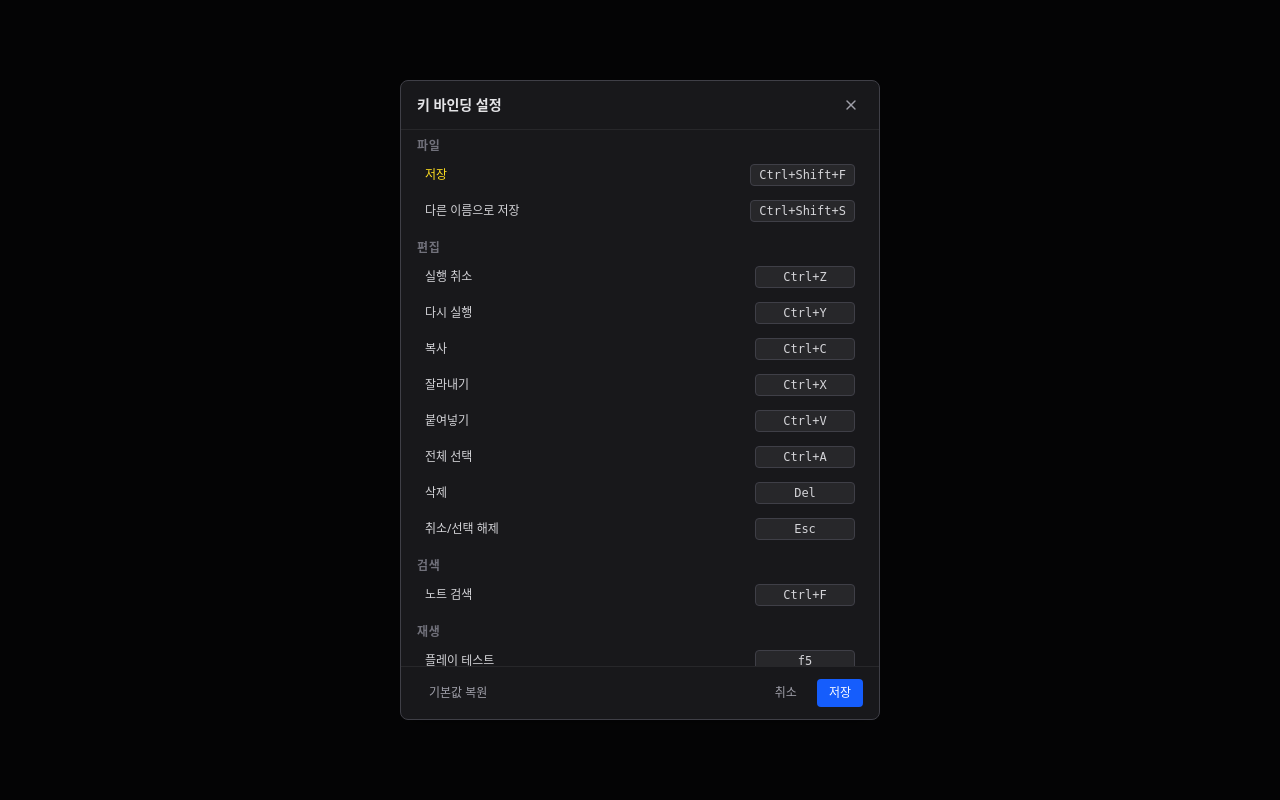
Test: KeyBindingsDialog › restores DEFAULT_BINDINGS when "기본값 복원" is clicked
Check: the button "Ctrl+Shift+F" is shown, box [750, 164, 855, 186]
Click the button "기본값 복원".
click(458, 693)  # box [417, 679, 499, 707]
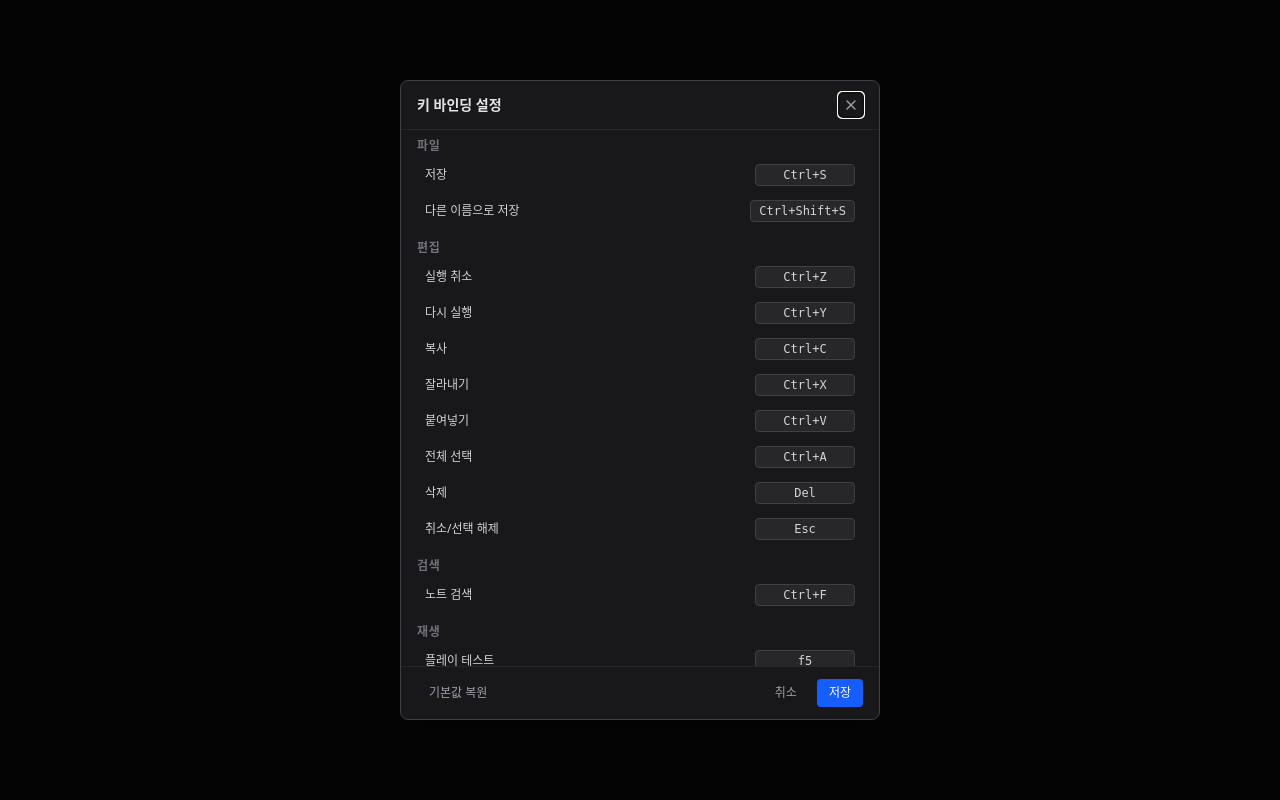
Check: the button "Ctrl+S" is shown, box [755, 164, 855, 186]
Check: the button "Ctrl+Shift+F" is gone
